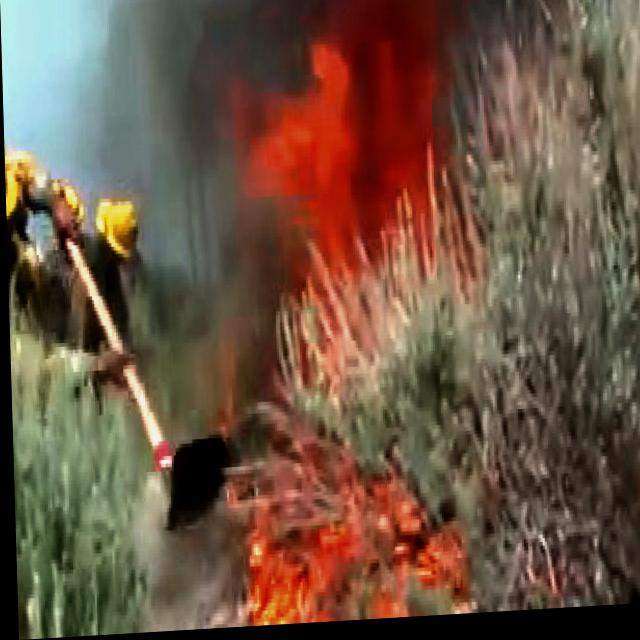fire: (237, 0, 459, 342), (239, 415, 465, 629)
